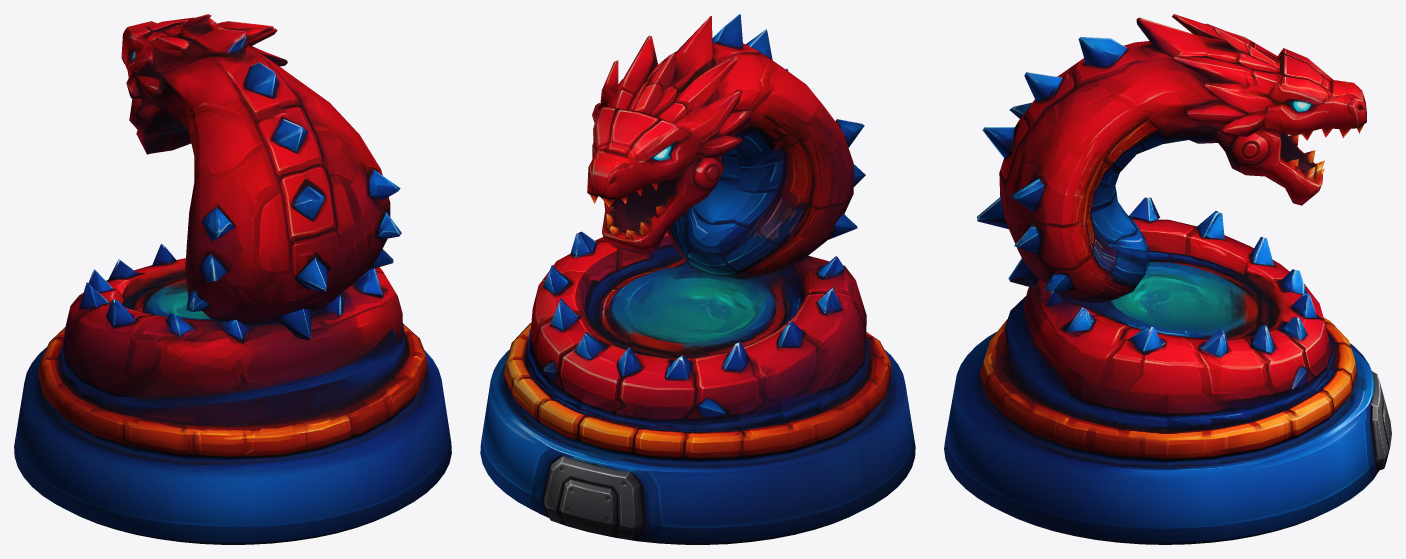
3 views of the same model, side by side, from view 1: azimuth 30°, elevation 25°; view 2: azimuth 150°, elevation 25°; view 3: azimuth 270°, elevation 25° (orthographic).
Parts seen in each view (by area): view 1: TurretHead, TurretBase; view 2: TurretHead, TurretBase; view 3: TurretHead, TurretBase.
Boxes of the visible parts, x1=… form: TurretHead: x1=38, y1=14, x2=427, y2=457; TurretBase: x1=14, y1=347, x2=451, y2=544; TurretHead: x1=504, y1=14, x2=891, y2=460; TurretBase: x1=480, y1=349, x2=915, y2=544; TurretHead: x1=977, y1=14, x2=1366, y2=460; TurretBase: x1=944, y1=331, x2=1391, y2=544.
Size of the model in its own units: 169 by 171 by 185.
Materials: 1 (1 with a texture image).
